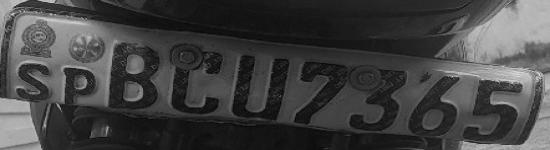3: (350, 60, 409, 136)
5: (464, 74, 526, 146)
6: (407, 69, 461, 142)
7: (290, 57, 350, 128)
B: (102, 37, 163, 114)
C: (167, 44, 226, 118)
P: (53, 62, 98, 110)
S: (14, 58, 53, 104)
U: (227, 45, 293, 126)
